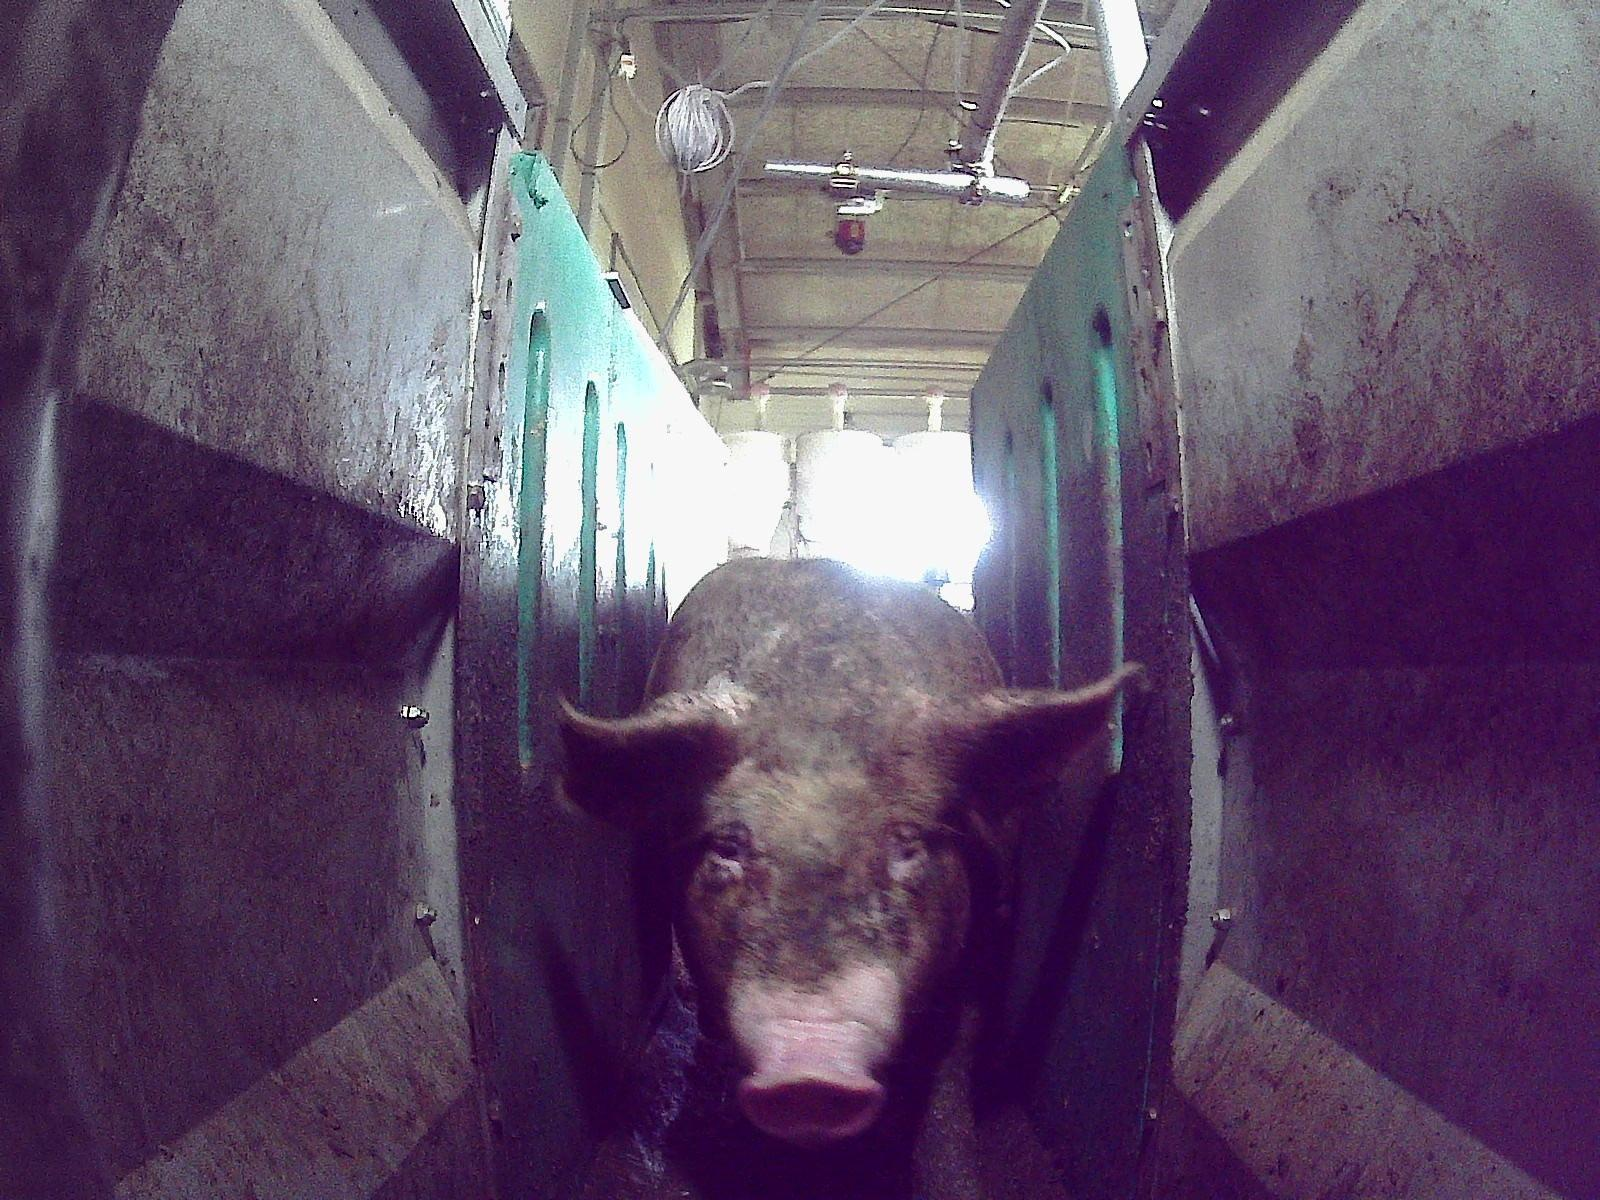Face: (679, 711, 962, 1144)
